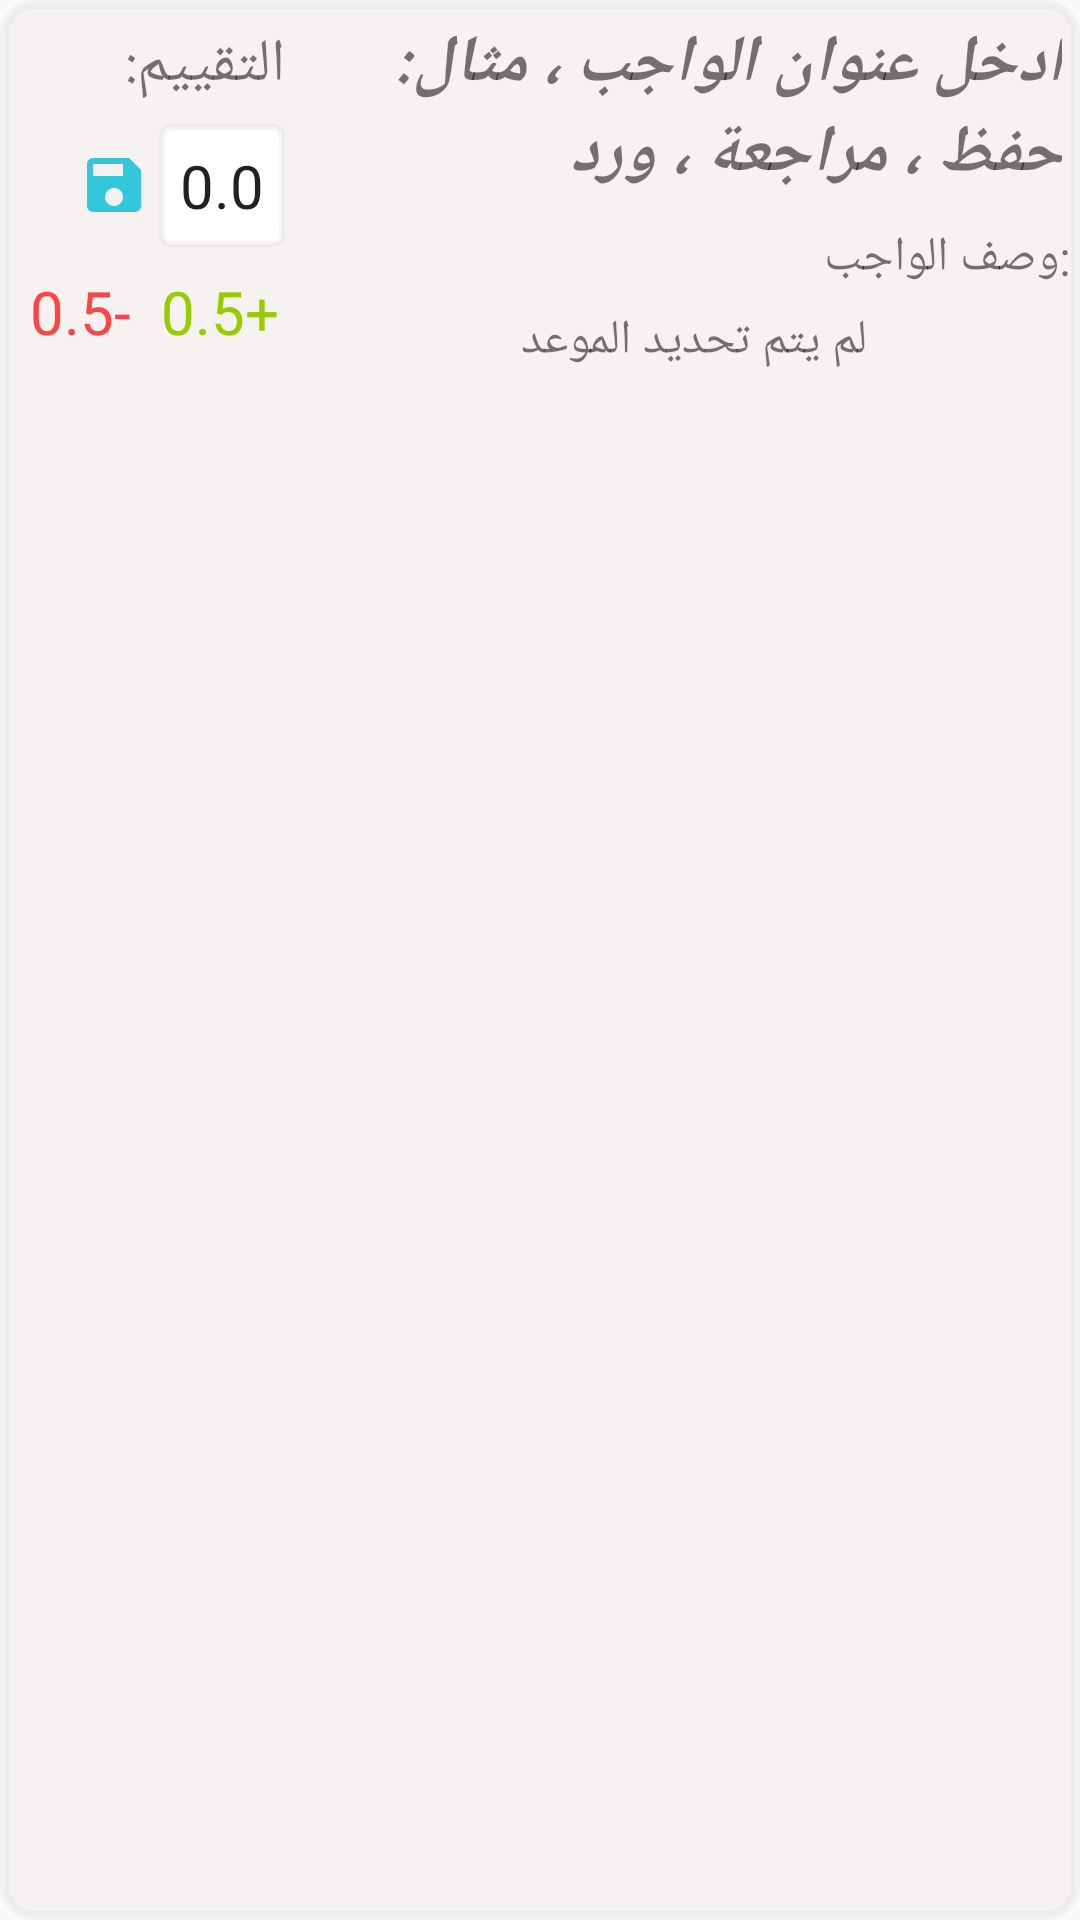

Icons on this 1080 x 1920 Android screen, each with its box as (x1, y1, x2, y2):
حفظ: (87, 158, 141, 212)
